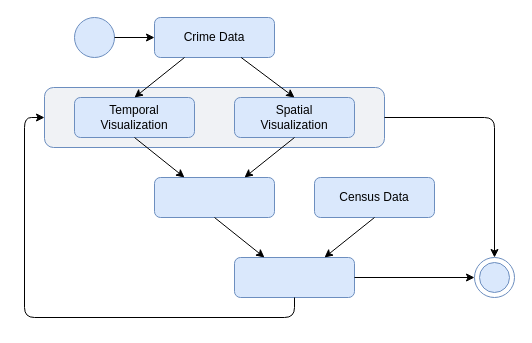
Some shapes in this 532 by 343 pixel diagram are drawn without their labels. The shapes that lost their labels are listed below. From the top down, each one's centre as x and y in pixels, then its label:
At point (214, 197): "Universe Selection".
At point (294, 277): "Correlation Analysis".
